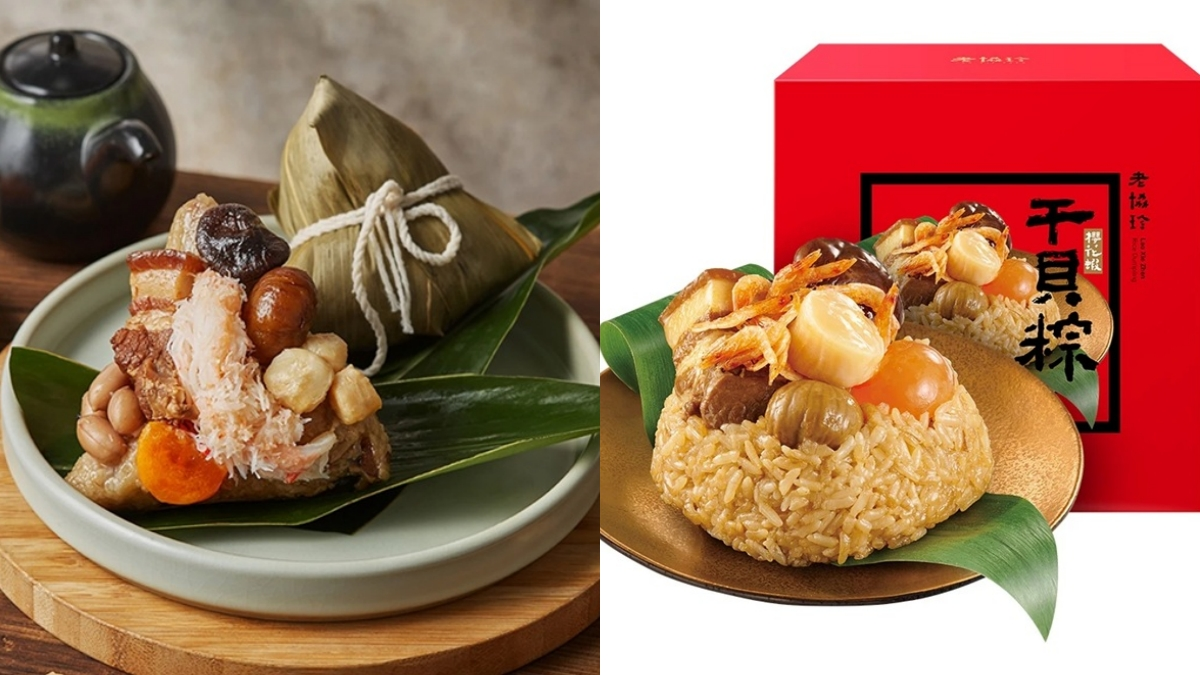zongzi: (652, 252, 992, 565), (66, 194, 390, 511), (271, 76, 540, 366)
